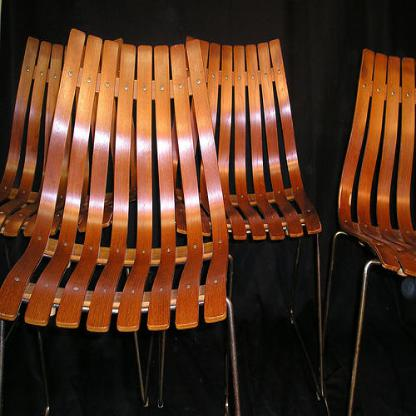chair: (1, 24, 242, 415), (157, 33, 326, 415), (2, 34, 152, 415), (324, 45, 415, 415)
